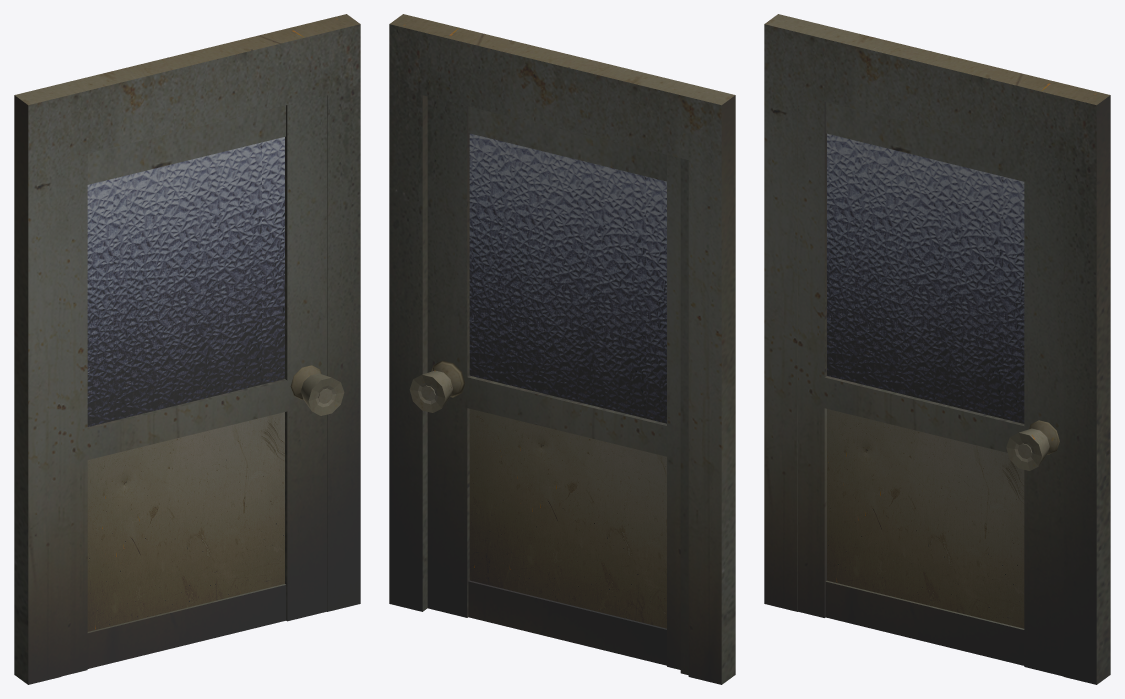
Rendered from ReRoomDoor.fbx.
3 views of the same model, side by side, from view 1: azimuth 30°, elevation 25°; view 2: azimuth 150°, elevation 25°; view 3: azimuth 330°, elevation 25° (orthographic).
Parts seen in each view (by area): view 1: DoorBase, Flame, DoorKnob2; view 2: DoorBase, Flame, DoorKnob1; view 3: DoorBase, Flame, DoorKnob2.
Part boxes in pixels (left/top/right/bottom): DoorBase: left=61, top=95, right=326, bottom=676; Flame: left=14, top=14, right=360, bottom=684; DoorKnob2: left=290, top=365, right=344, bottom=415; DoorBase: left=427, top=96, right=680, bottom=669; Flame: left=389, top=14, right=735, bottom=684; DoorKnob1: left=409, top=360, right=464, bottom=412; DoorBase: left=798, top=95, right=1063, bottom=676; Flame: left=764, top=14, right=1110, bottom=684; DoorKnob2: left=1006, top=420, right=1059, bottom=470.
Size of the model in its own units: 180 by 300 by 45.26.
